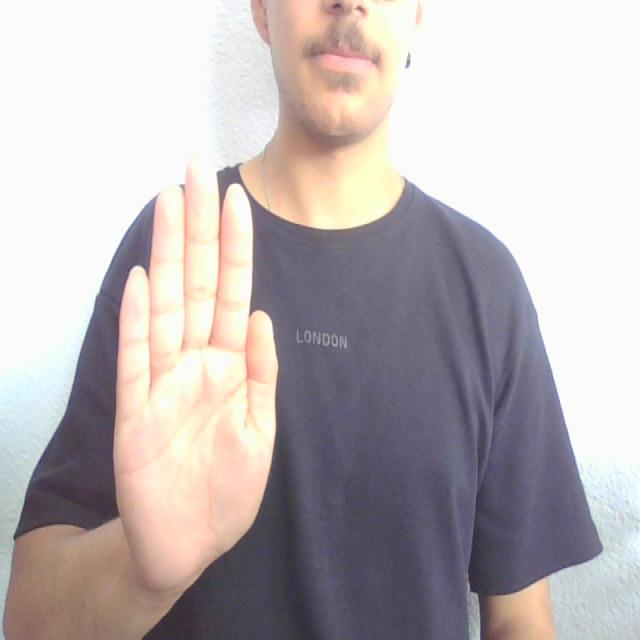Dur: (102, 138, 307, 588)
